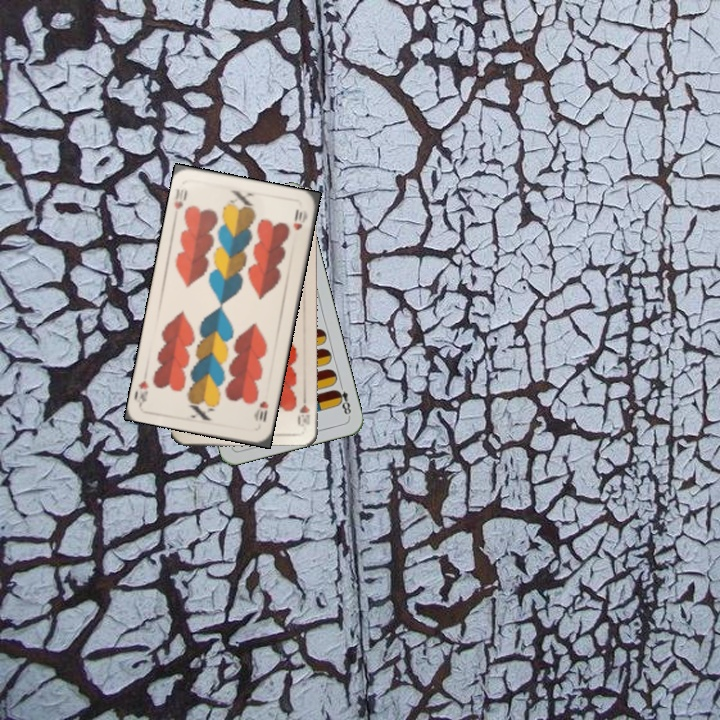E8: (332, 379, 353, 419)
H10: (294, 390, 312, 428), (170, 183, 190, 212), (251, 397, 271, 425)
